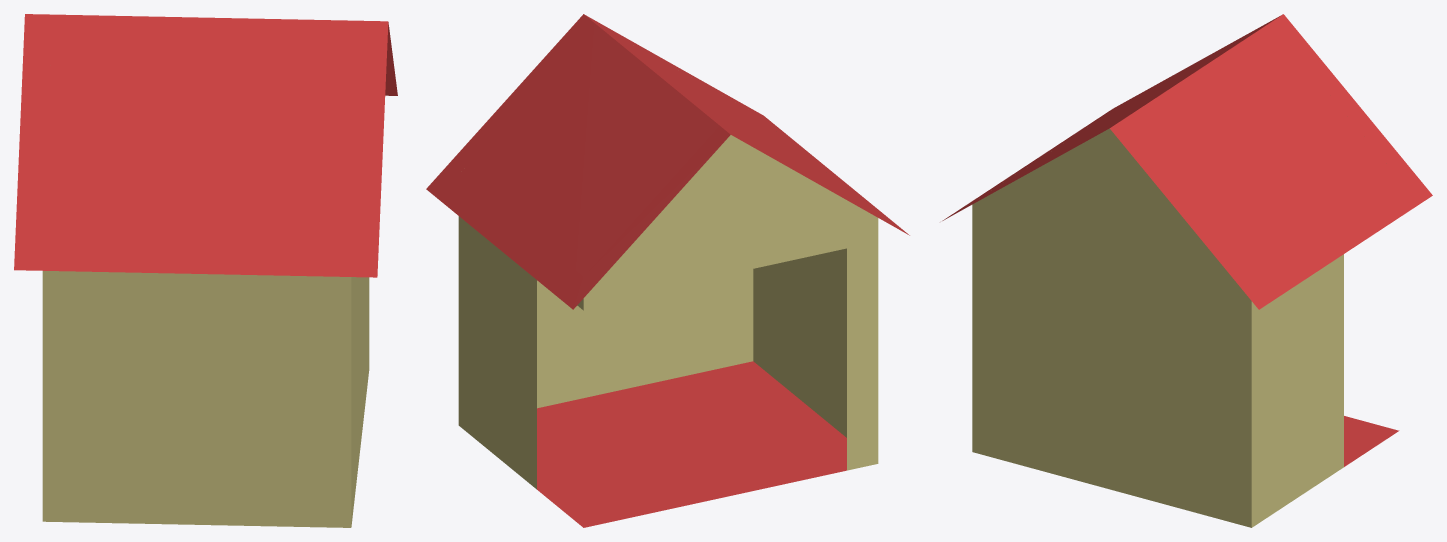
3 renders of one model, left to right at view 1: azimuth 30°, elevation 25°; view 2: azimuth 150°, elevation 25°; view 3: azimuth 270°, elevation 25°, orthographic. The views are drawn at different scales.
Size of the model in its own units: 14.74 by 15.28 by 12.74.
